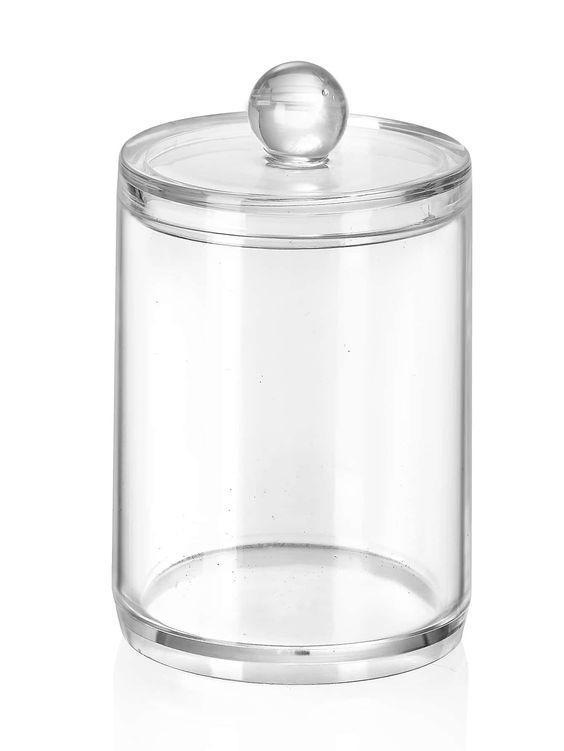PS: (110, 62, 475, 684)
